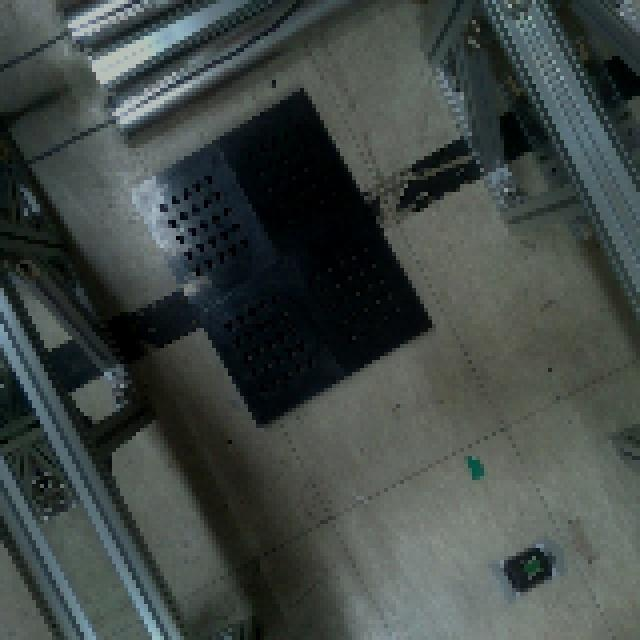pallet: (120, 82, 446, 439)
